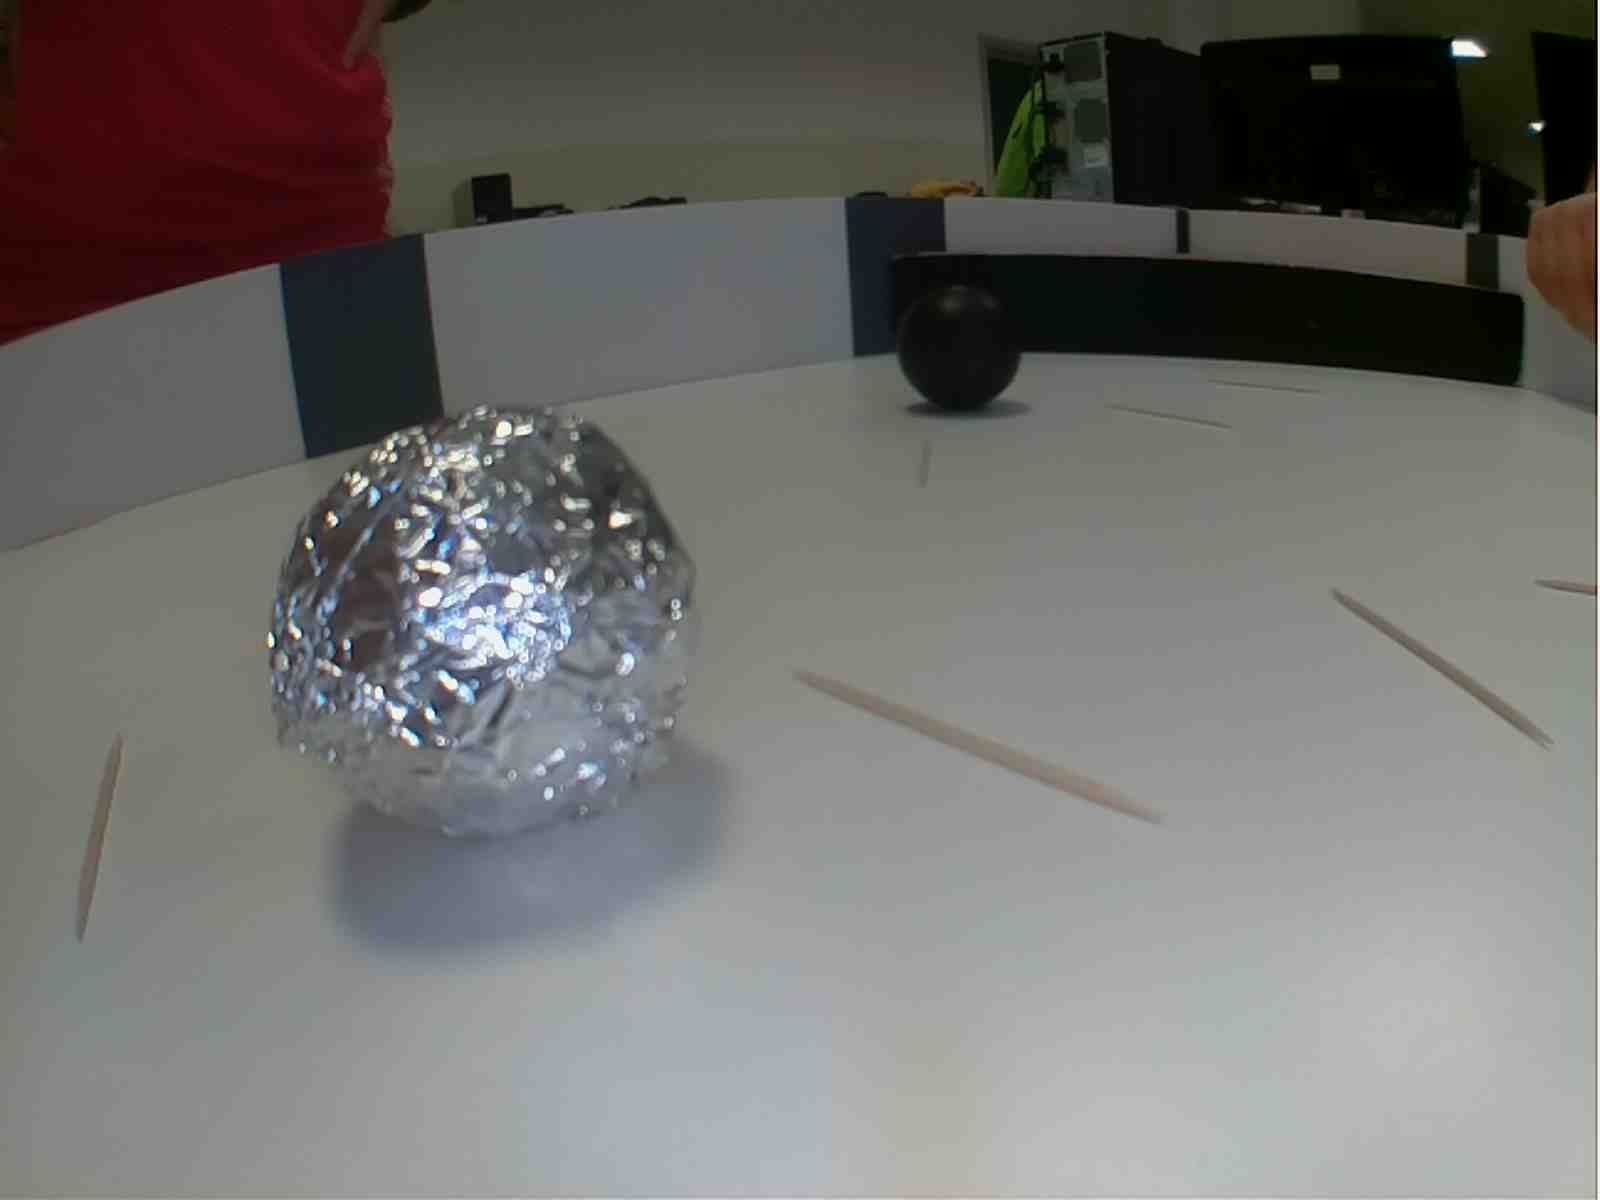bianca: (256, 397, 716, 848)
nera: (894, 290, 1034, 418)
